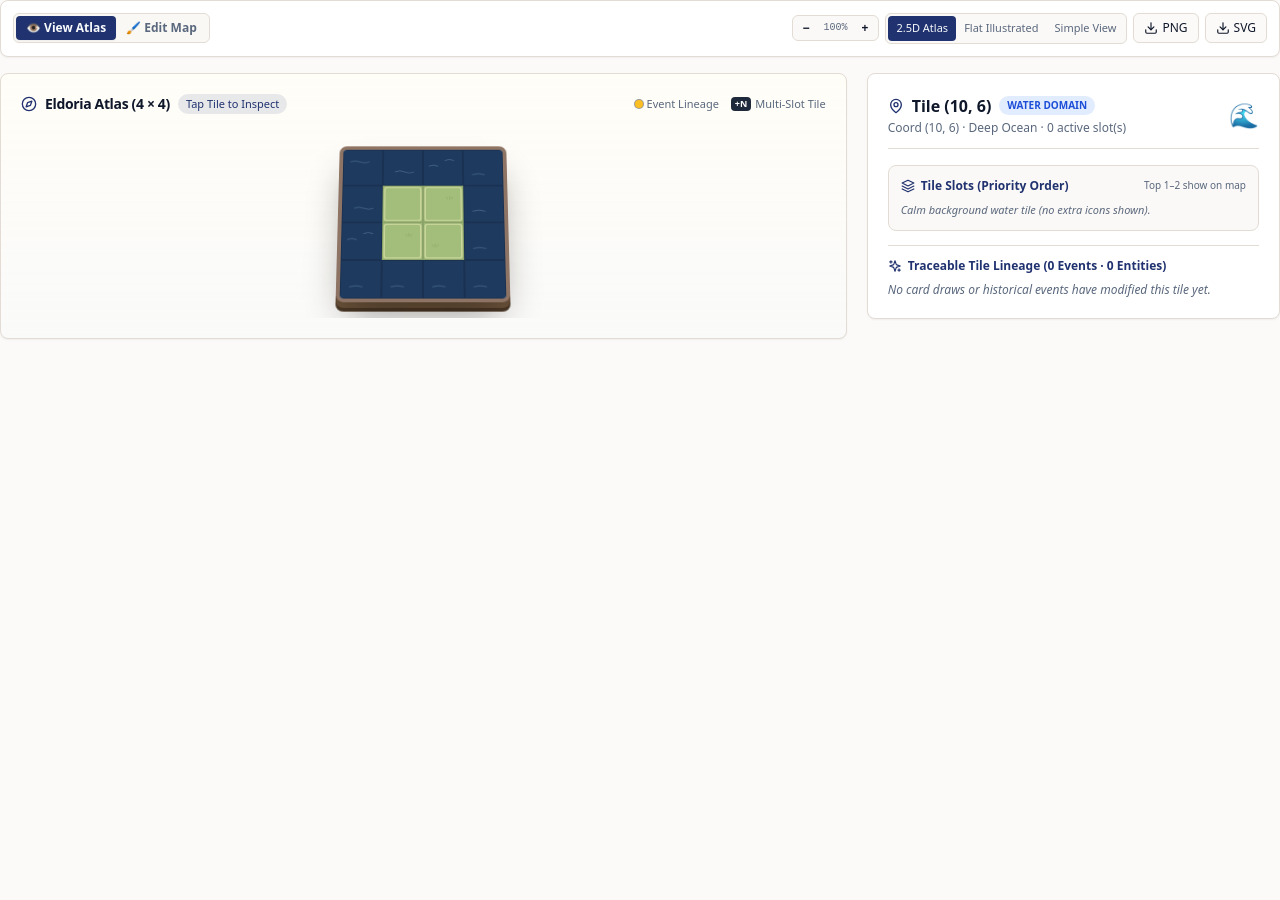
MapCanvas Component › supports clutter-free View Atlas mode (initialViewOnly) that inspects tiles without painting
The width and height of the screenshot is (1280, 900).
Check: the button "Paint Brush" is not shown
Press the mouse on the button with test id "map-tile-1-2": (403, 241) [382, 222, 423, 260]
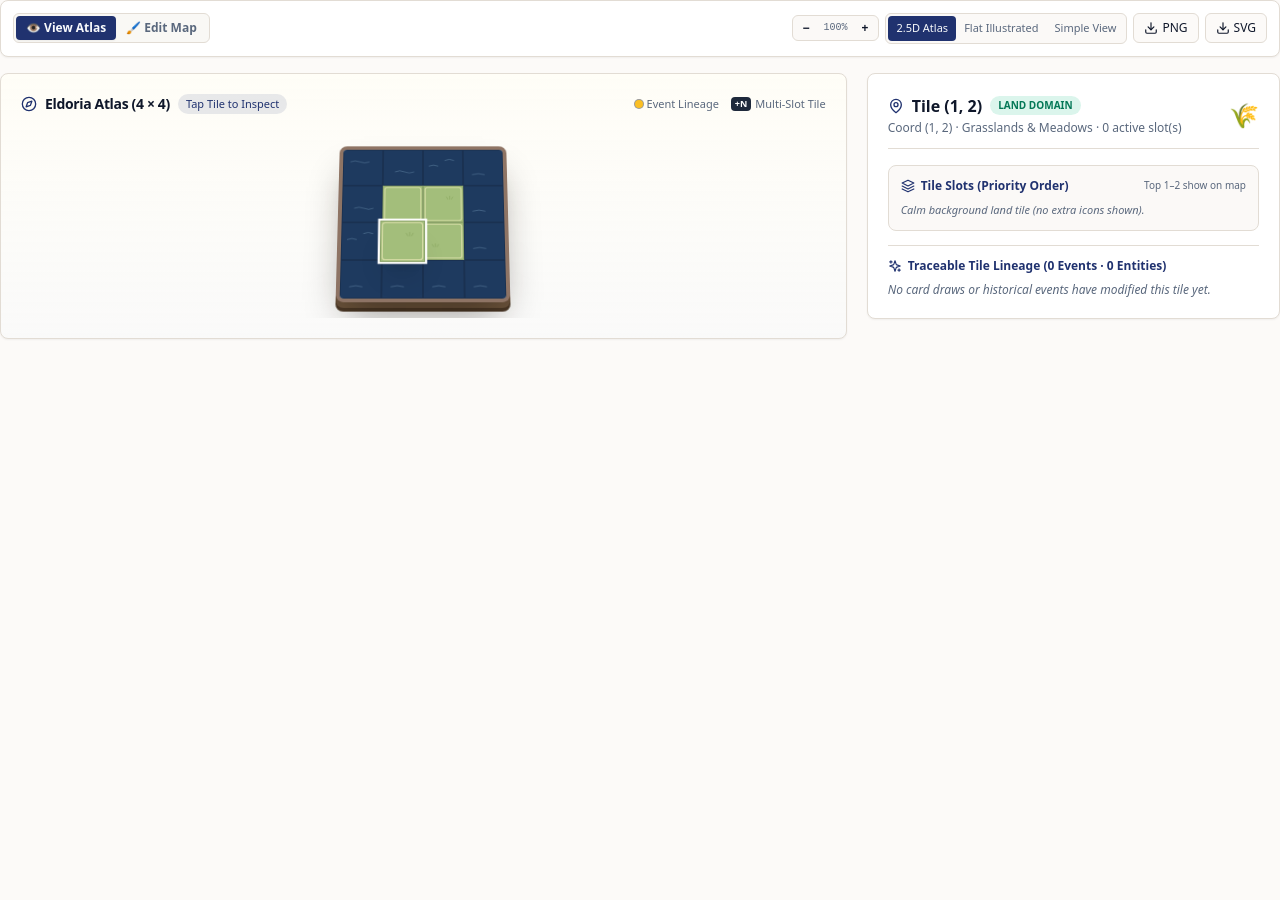
Check: the heading "Tile (1, 2)" is shown, box [912, 94, 982, 118]
# Switching to Edit Map reveals painting tools
Click the button "🖌️ Edit Map": (162, 28) [116, 16, 207, 40]
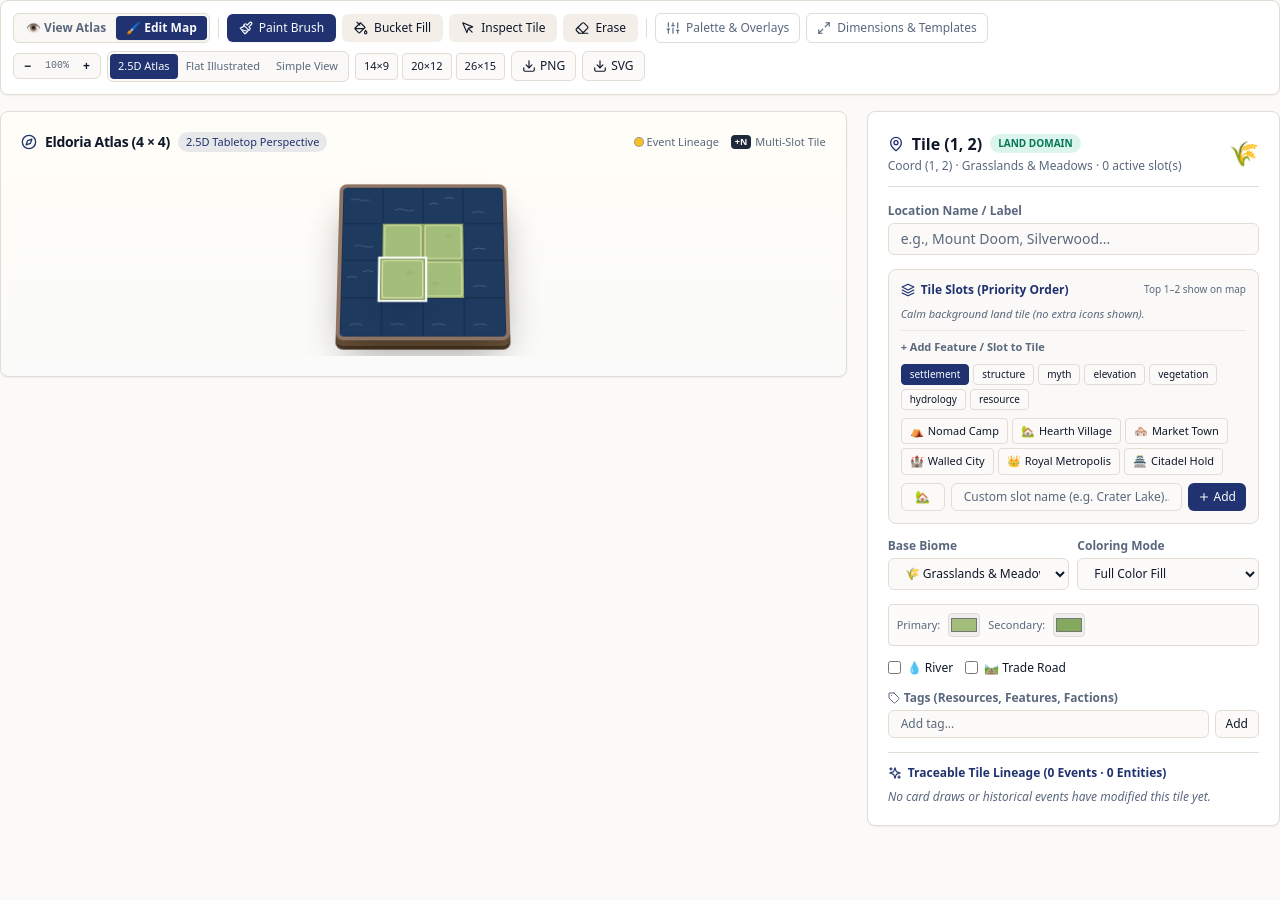
Check: the button "Paint Brush" is shown, box [227, 14, 336, 42]
